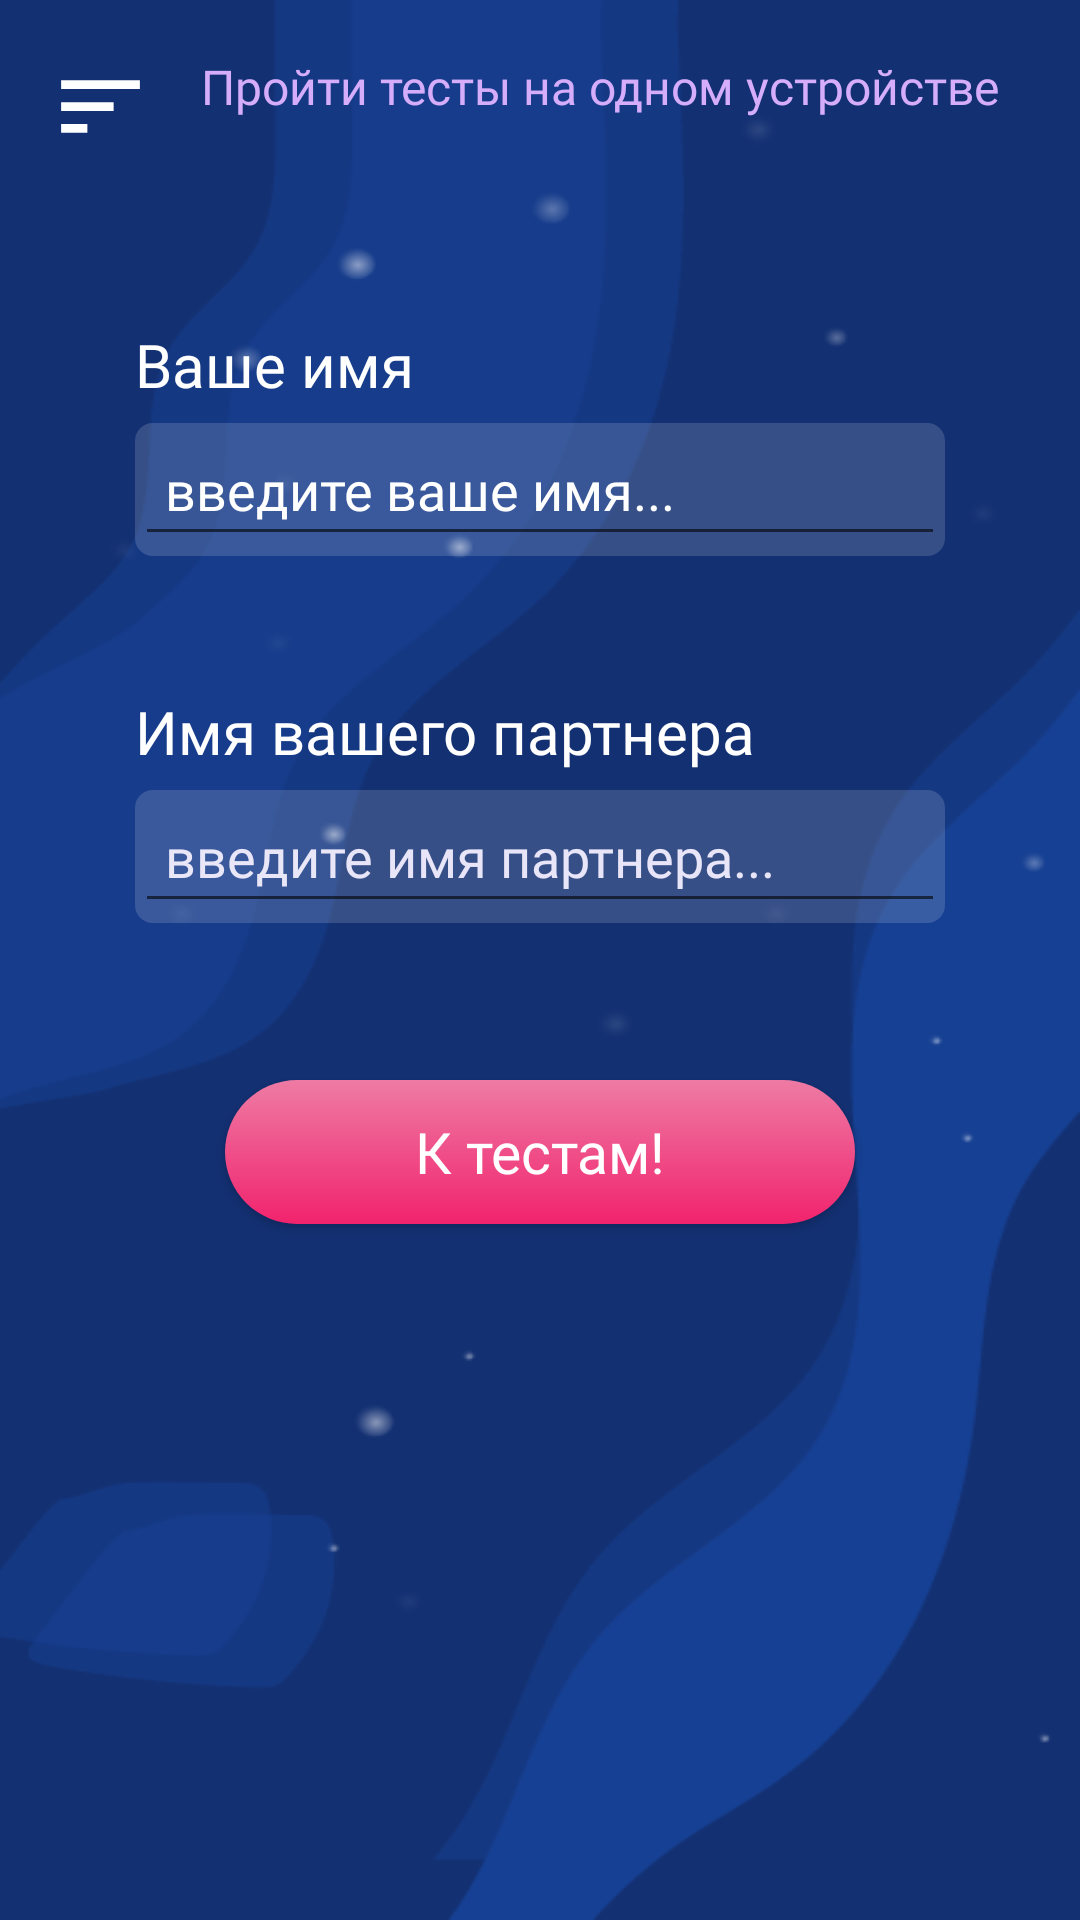

Icon click points for this 1080px x 1920px phone screenshot, format point (x, y):
menu: point (100, 106)
